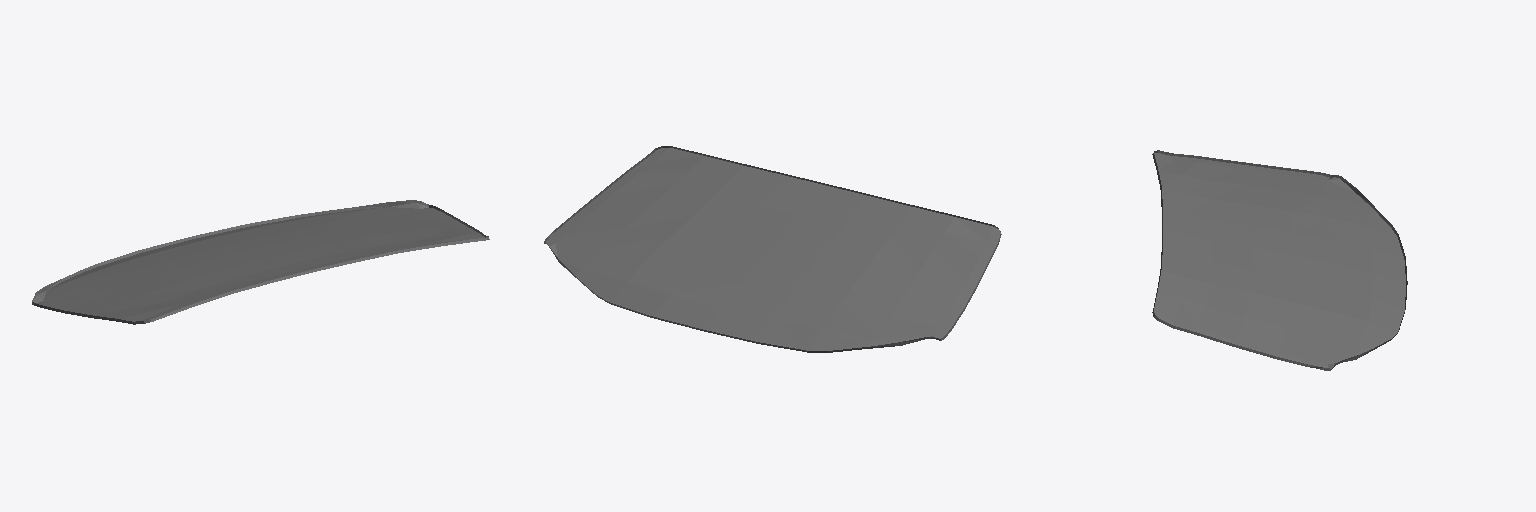
The model's file is sbrc_backlight_int.obj.
The picture shows the model from 3 angles: view 1: azimuth 30°, elevation 25°; view 2: azimuth 150°, elevation 25°; view 3: azimuth 270°, elevation 25°; orthographic projection.
Parts seen in each view (by area): view 1: sbrc_backlight_int; view 2: sbrc_backlight_int; view 3: sbrc_backlight_int.
Boxes of the visible parts, x1=… form: sbrc_backlight_int: x1=32, y1=200, x2=489, y2=324; sbrc_backlight_int: x1=544, y1=146, x2=1001, y2=352; sbrc_backlight_int: x1=1152, y1=150, x2=1407, y2=370.
Size of the model in its own units: 1.29 by 0.1835 by 0.7172.